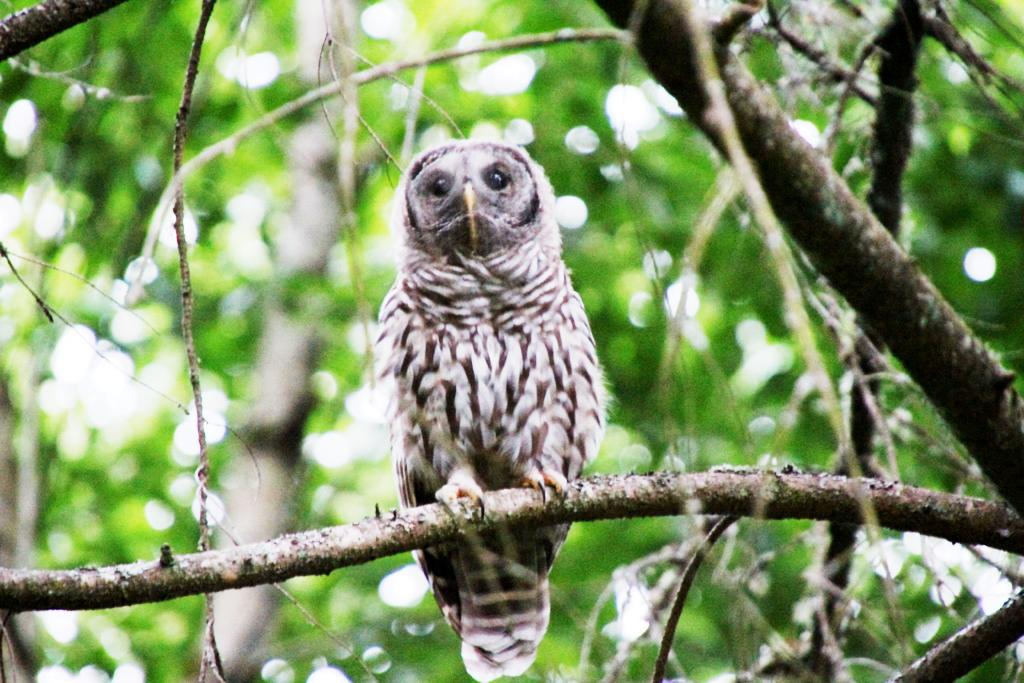Owl: (372, 132, 612, 682)
